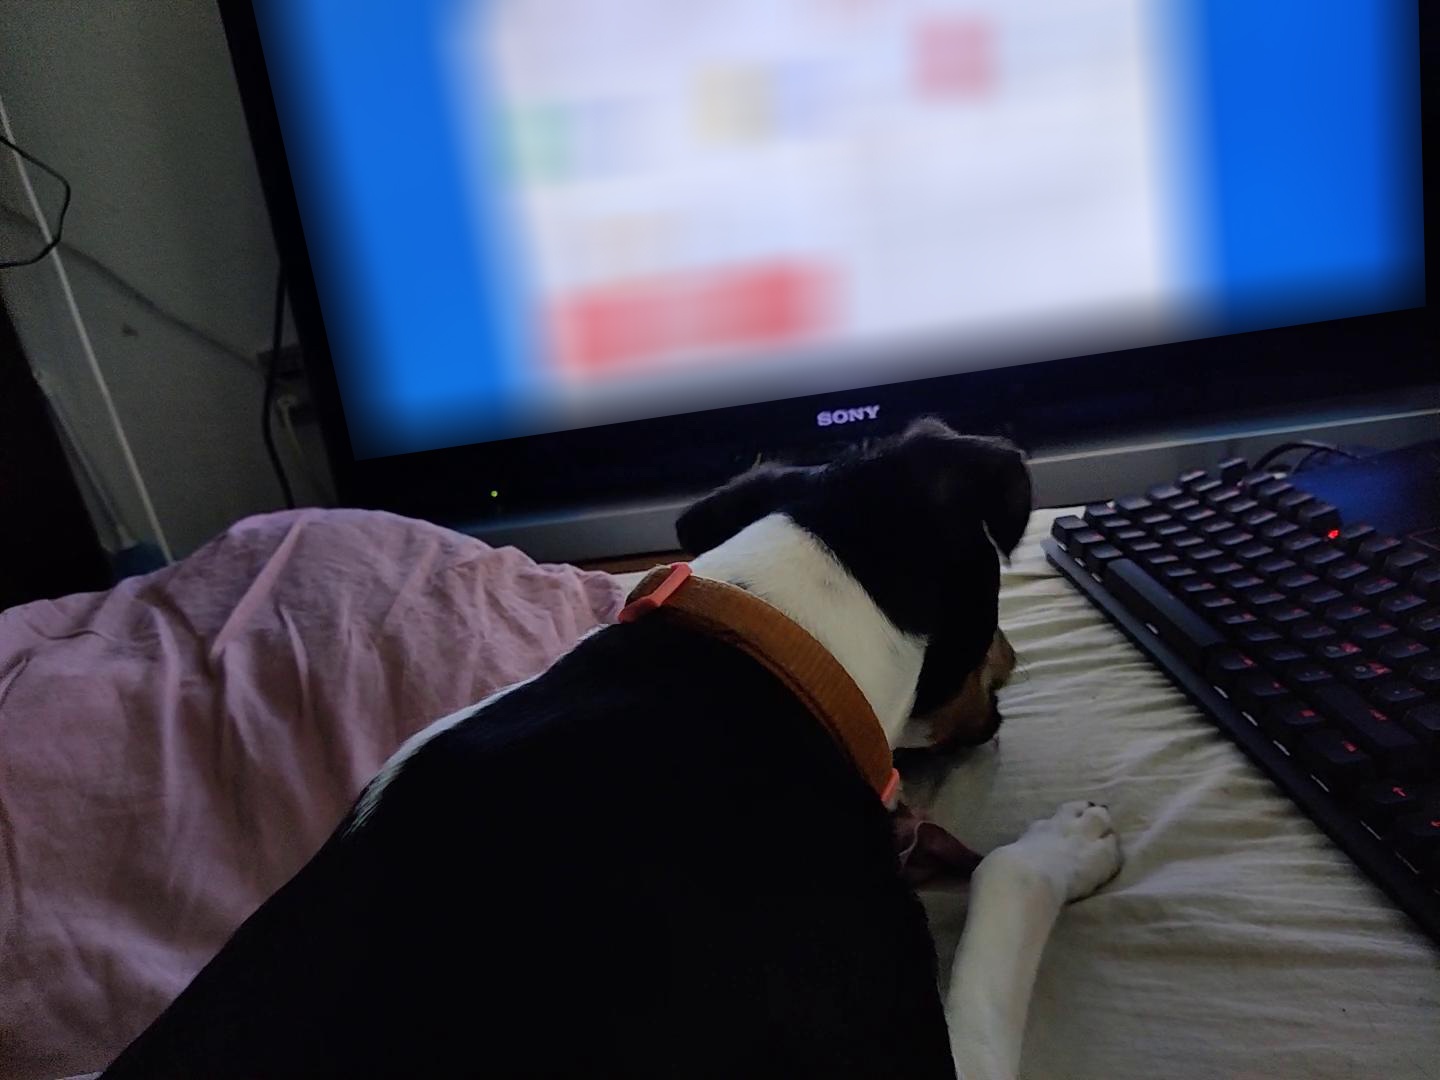Dog: (92, 415, 1125, 1079)
